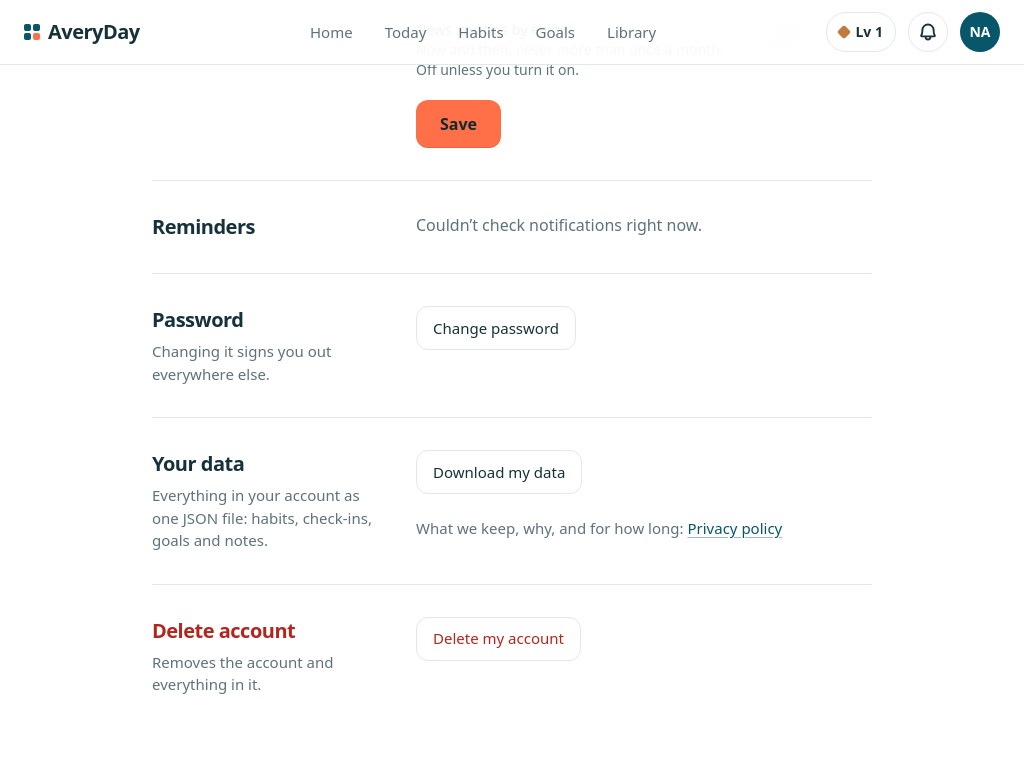
Scenario: settings › deletes the account only with the password, then signs out
The image size is (1024, 768).
(page scrolled)
Click the button "Delete my account" at (498, 638), box [416, 616, 581, 660]
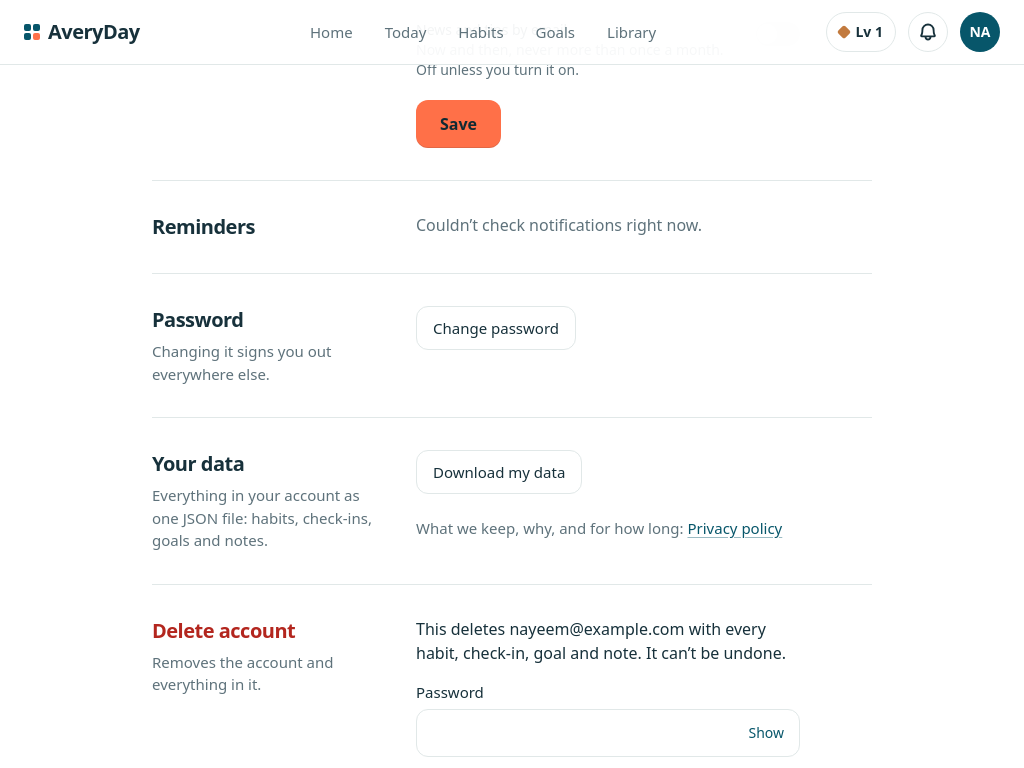
Type "wrong-one" into the password field labelled "Password" at (608, 733), box [416, 709, 800, 757]
(page scrolled)
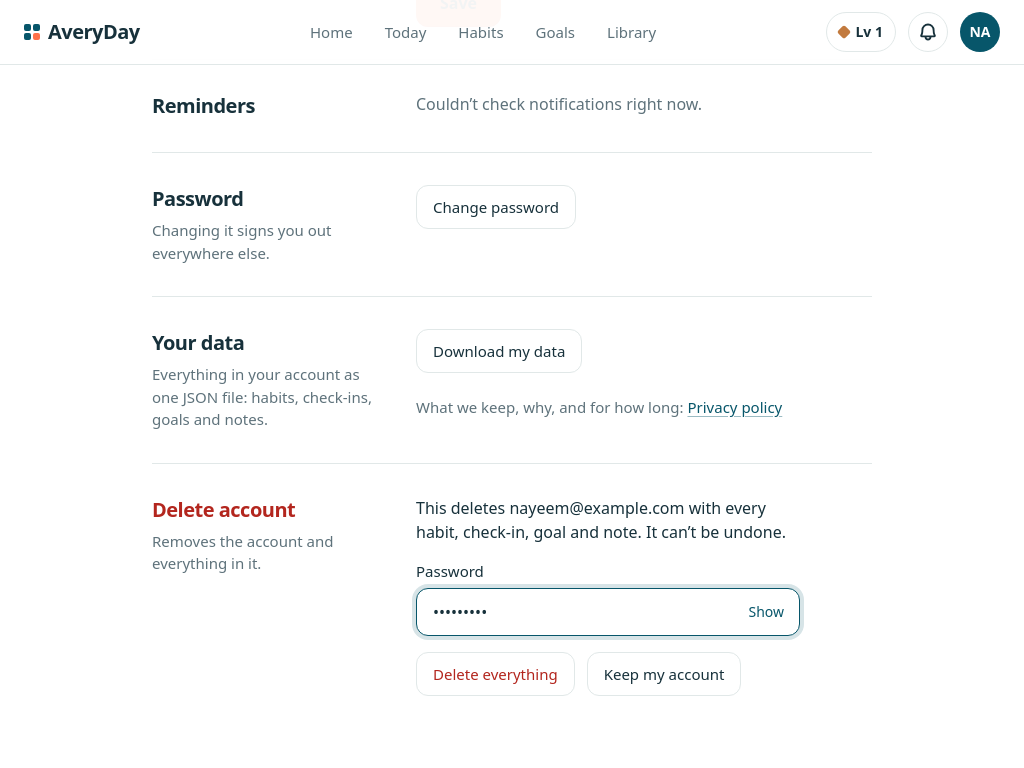
Click the button "Delete everything" at (495, 674), box [416, 652, 575, 696]
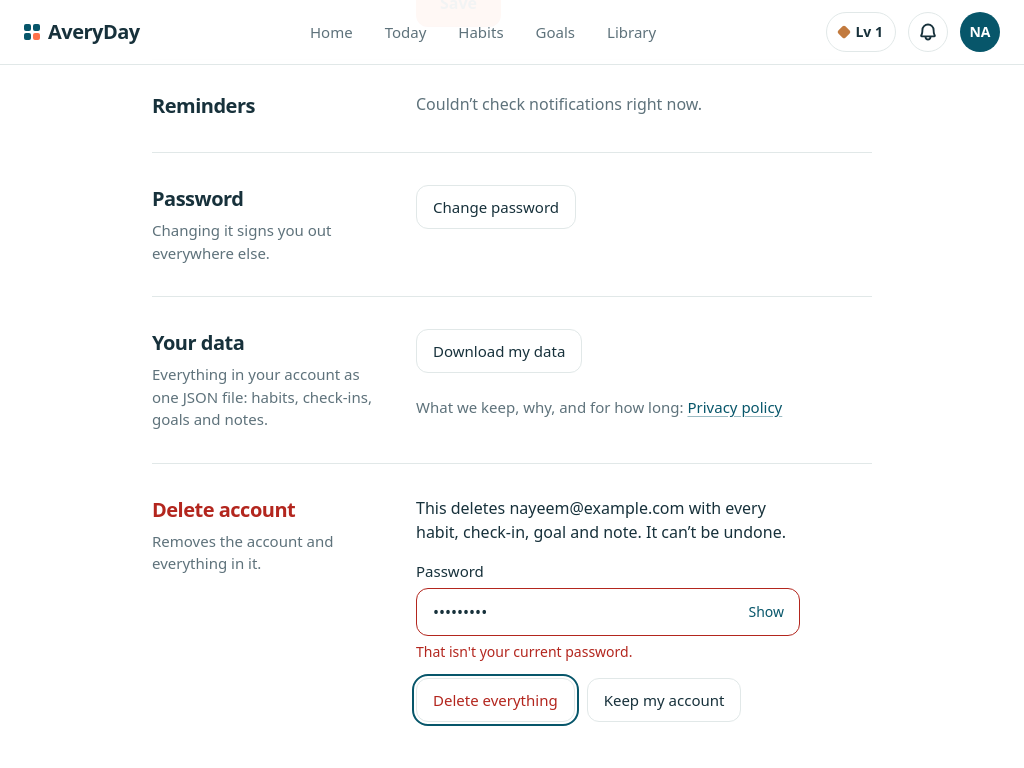
Expected: the text "That isn't your current password." is shown, [416, 642, 632, 661]
Type "right-one" into the password field labelled "Password" at (608, 612), box [416, 588, 800, 636]
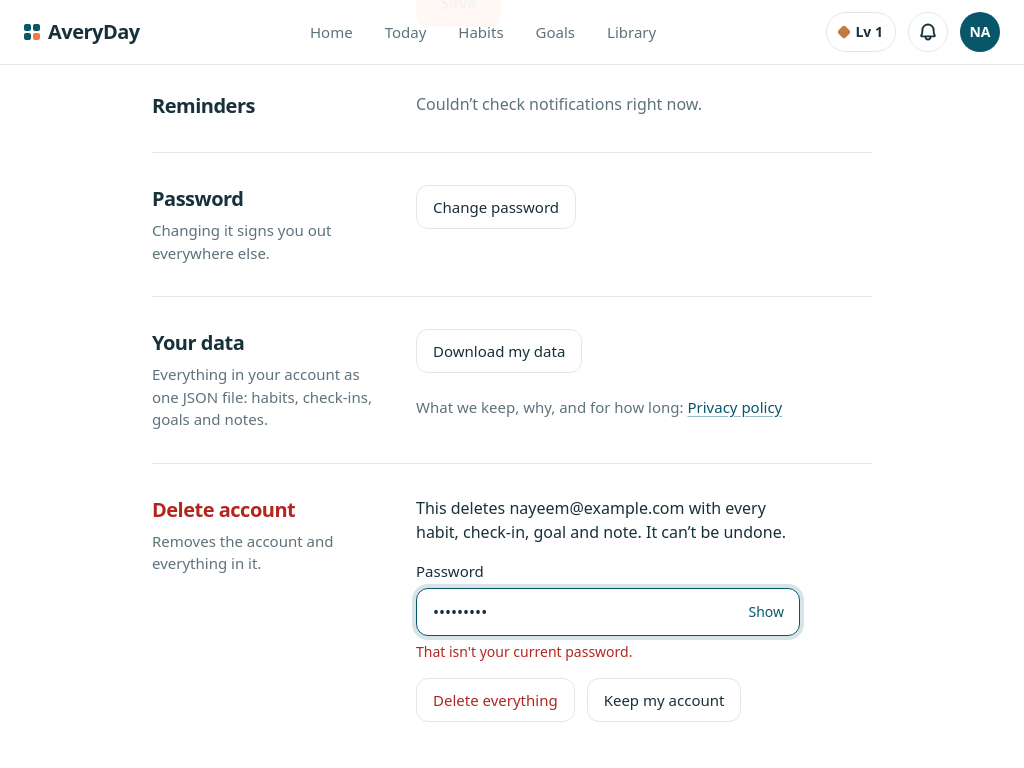
Click the button "Delete everything" at (495, 700), box [416, 678, 575, 722]
(page scrolled)
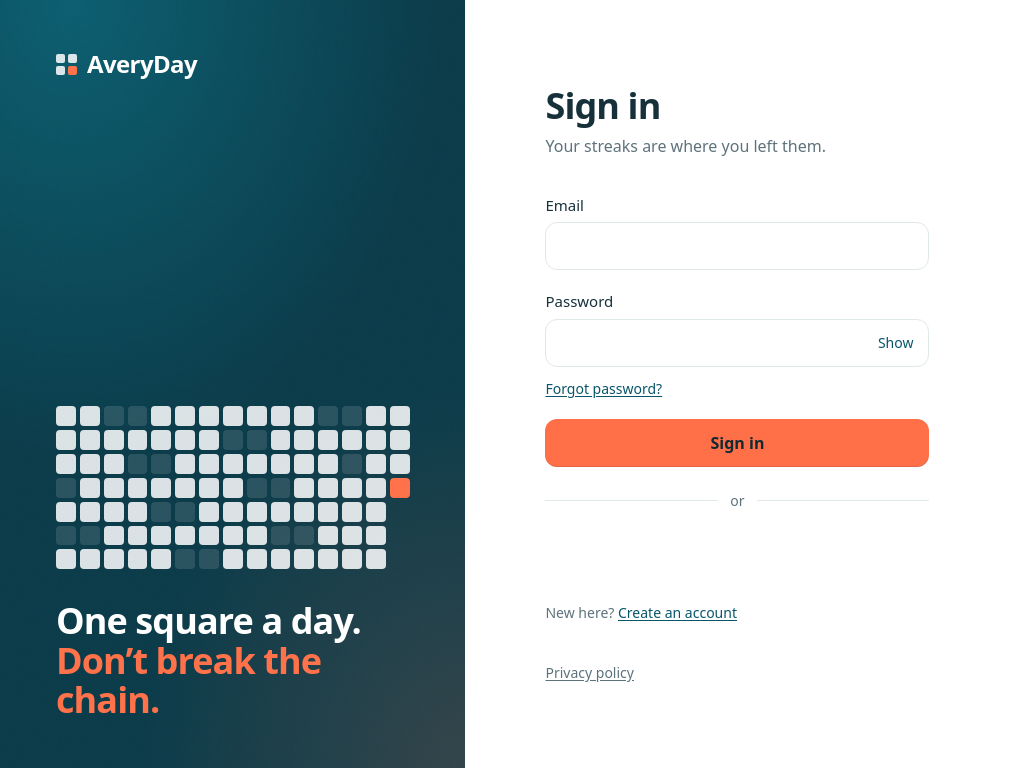
Expected: the heading "Sign in" is shown, [546, 80, 660, 130]
